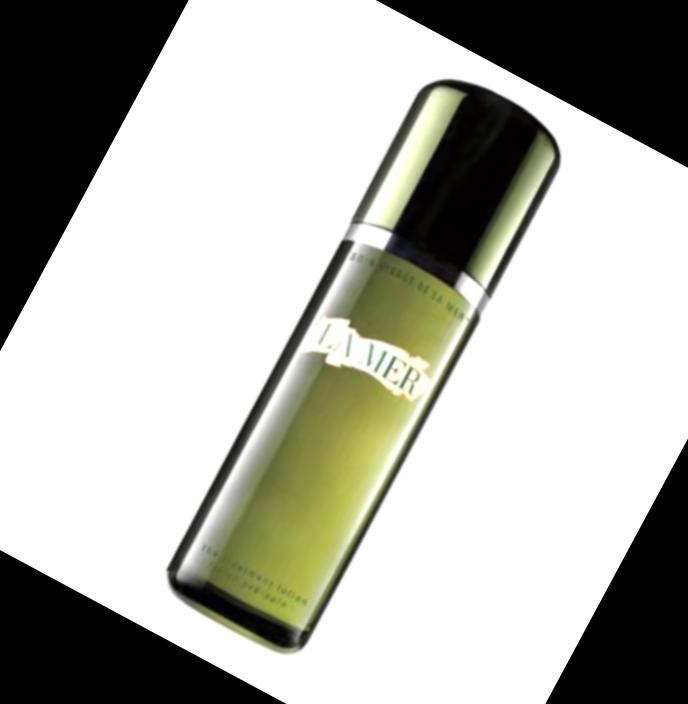cosmetic: (156, 68, 581, 664)
